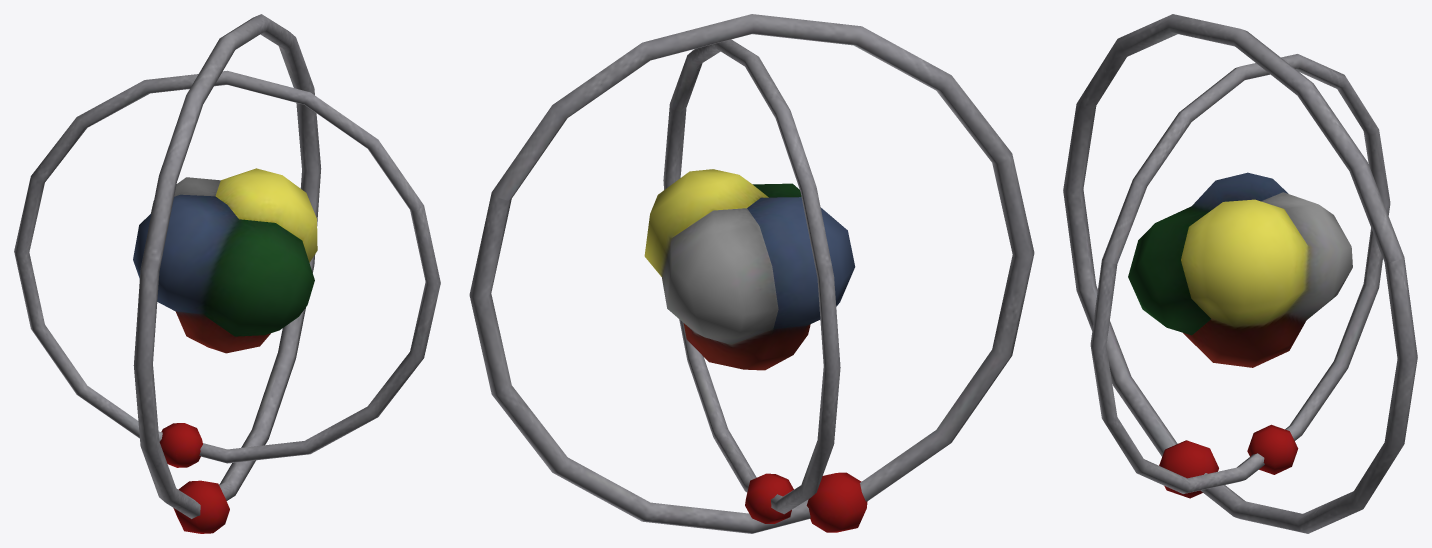
File: infotron_24.obj
3 views of the same model, side by side, from view 1: azimuth 30°, elevation 25°; view 2: azimuth 150°, elevation 25°; view 3: azimuth 270°, elevation 25° (orthographic). The views are drawn at different scales.
Visible parts, largest first — view 1: unwrapped2, Object09, Object10, Object12, Object11; view 2: Object09, unwrapped2, Object10, Object12, Object11; view 3: unwrapped2, Object09, Object10, Object12, Object11.
Part boxes in pixels (x1,y1,x2,y2): unwrapped2: [133, 168, 317, 353]; Object09: [133, 14, 321, 518]; Object10: [14, 70, 440, 463]; Object12: [173, 480, 229, 533]; Object11: [159, 423, 202, 467]; Object09: [469, 14, 1034, 533]; unwrapped2: [644, 169, 855, 370]; Object10: [663, 39, 840, 514]; Object12: [806, 472, 867, 532]; Object11: [745, 473, 793, 523]; unwrapped2: [1128, 172, 1352, 367]; Object09: [1063, 14, 1417, 533]; Object10: [1090, 54, 1390, 493]; Object12: [1159, 440, 1218, 498]; Object11: [1247, 424, 1298, 474].
Bounding box in the file's own units: 27.27 × 35.65 × 23.15.
Materials: 1 (1 with a texture image).
